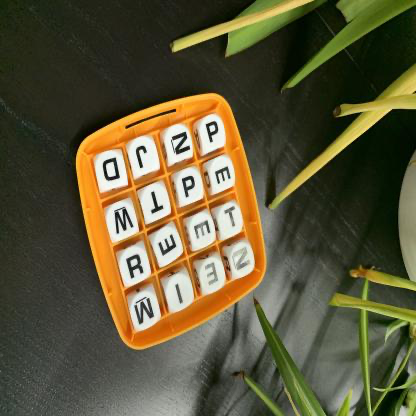d: (96, 151, 127, 189)
e: (156, 226, 183, 263), (190, 213, 216, 247), (201, 259, 226, 293), (212, 158, 236, 190)
i: (167, 274, 194, 310)
j: (130, 138, 160, 176)
m: (131, 293, 160, 330)
n: (167, 125, 193, 162), (231, 244, 256, 277)
p: (178, 169, 204, 204), (201, 116, 226, 150)
r: (120, 247, 150, 285)
t: (143, 185, 170, 220), (220, 204, 244, 238)
w: (108, 201, 139, 240)
